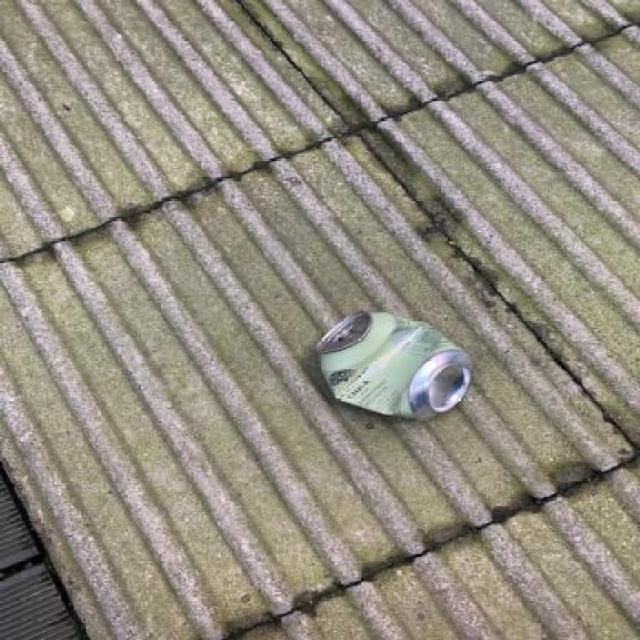trash: (314, 310, 478, 432)
